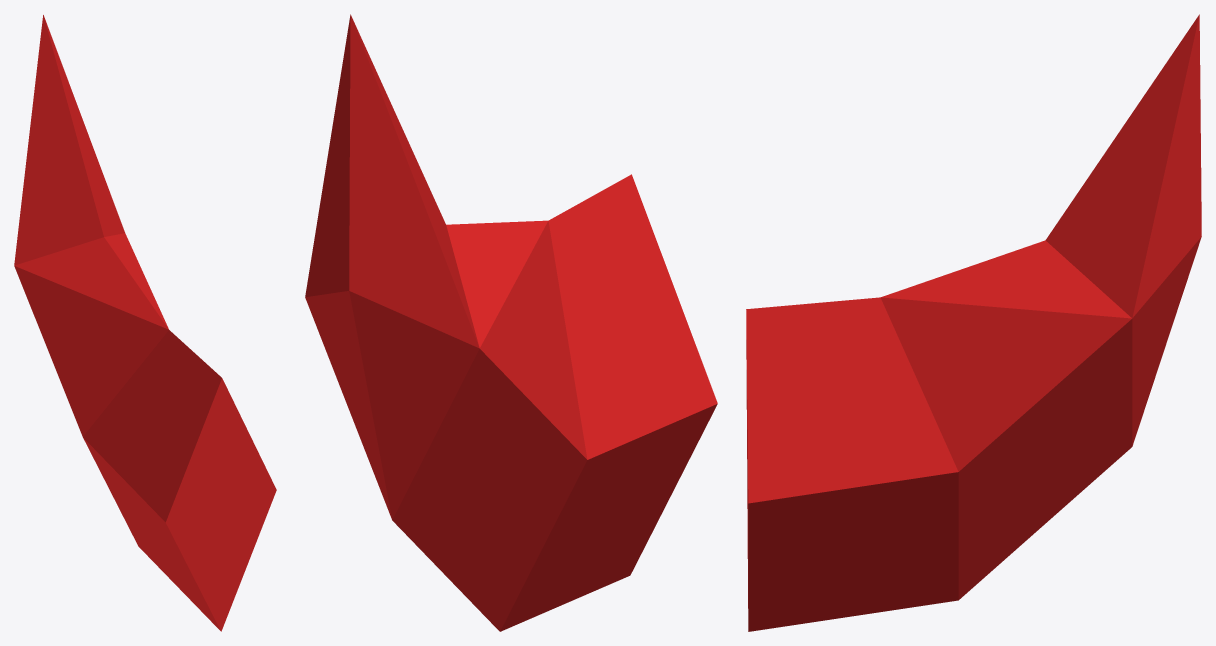
Rendered from ship-2-1.fbx.
3 views of the same model, side by side, from view 1: azimuth 30°, elevation 25°; view 2: azimuth 150°, elevation 25°; view 3: azimuth 270°, elevation 25° (orthographic). The views are drawn at different scales.
Visible parts, largest first — view 1: ship2; view 2: ship2; view 3: ship2.
Boxes of the visible parts, x1=… form: ship2: x1=14, y1=15, x2=276, y2=631; ship2: x1=305, y1=14, x2=717, y2=631; ship2: x1=746, y1=14, x2=1201, y2=631.
Bounding box in the file's own units: 1.17 × 4.93 × 3.29.
